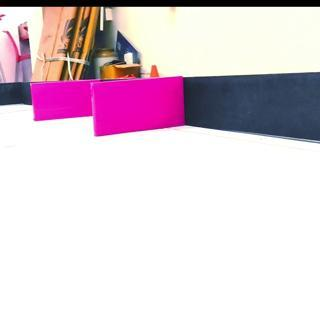xparking: (92, 79, 184, 130), (31, 82, 90, 121)
